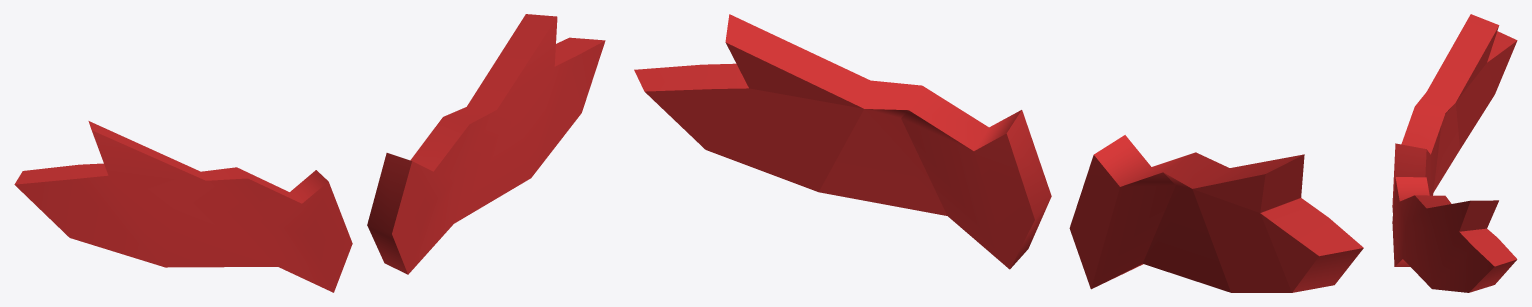
Rendered from Brow_Red_12.fbx.
3 renders of one model, left to right at view 1: azimuth 30°, elevation 25°; view 2: azimuth 150°, elevation 25°; view 3: azimuth 270°, elevation 25°, orthographic. The views are drawn at different scales.
Visible parts, largest first — view 1: Brow_Red_12; view 2: Brow_Red_12; view 3: Brow_Red_12.
Boxes of the visible parts, x1,y1,x2,y2 form: Brow_Red_12: (14, 14, 605, 292); Brow_Red_12: (634, 14, 1363, 292); Brow_Red_12: (1392, 14, 1517, 292).
Bounding box in the file's own units: 50.7 × 14.59 × 11.32.
